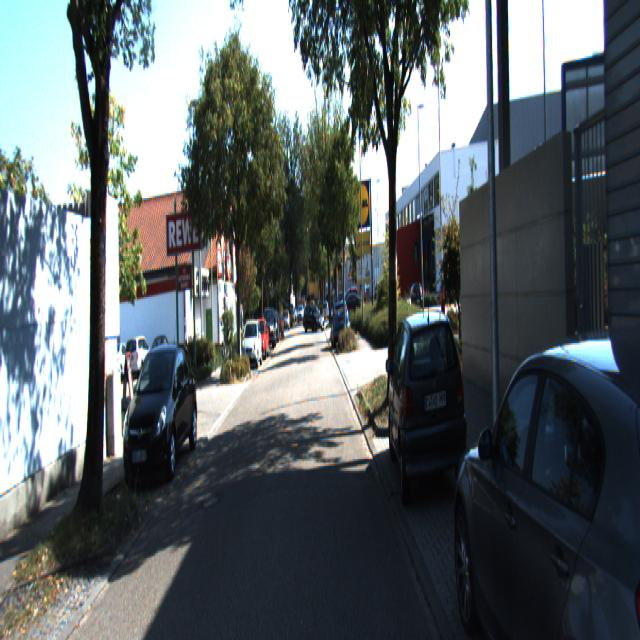Car: (448, 314, 640, 638), (385, 302, 470, 501), (121, 334, 199, 487), (124, 334, 156, 380), (148, 334, 176, 381), (242, 320, 262, 370), (332, 298, 350, 346), (251, 318, 270, 361)
DontCare: (266, 295, 332, 352), (348, 276, 372, 316), (408, 274, 424, 302)
